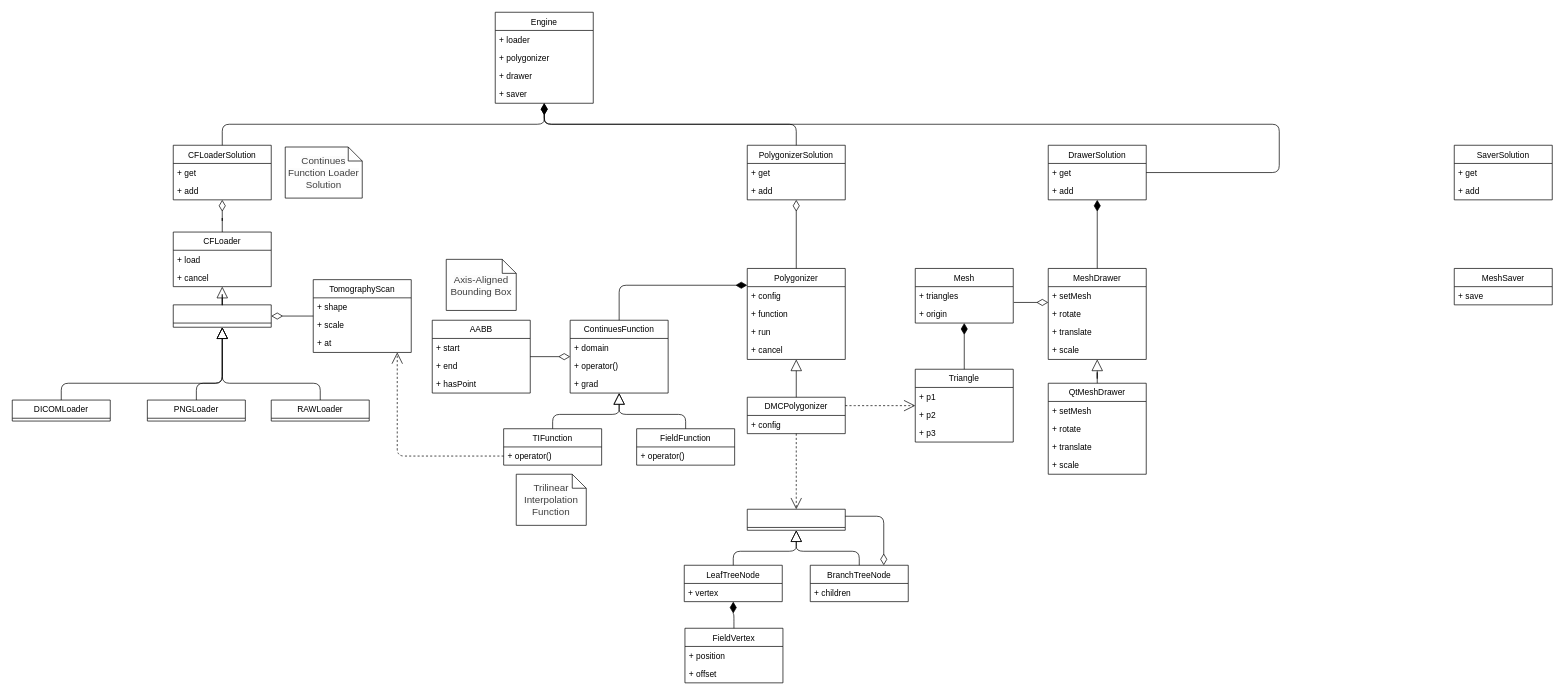
This 1565x697 diagram has some shape labels left out. The centre of each missing label's shape, as x and y in pixels:
TomographyLoader: the point at 222,315
TreeNode: the point at 796,519
